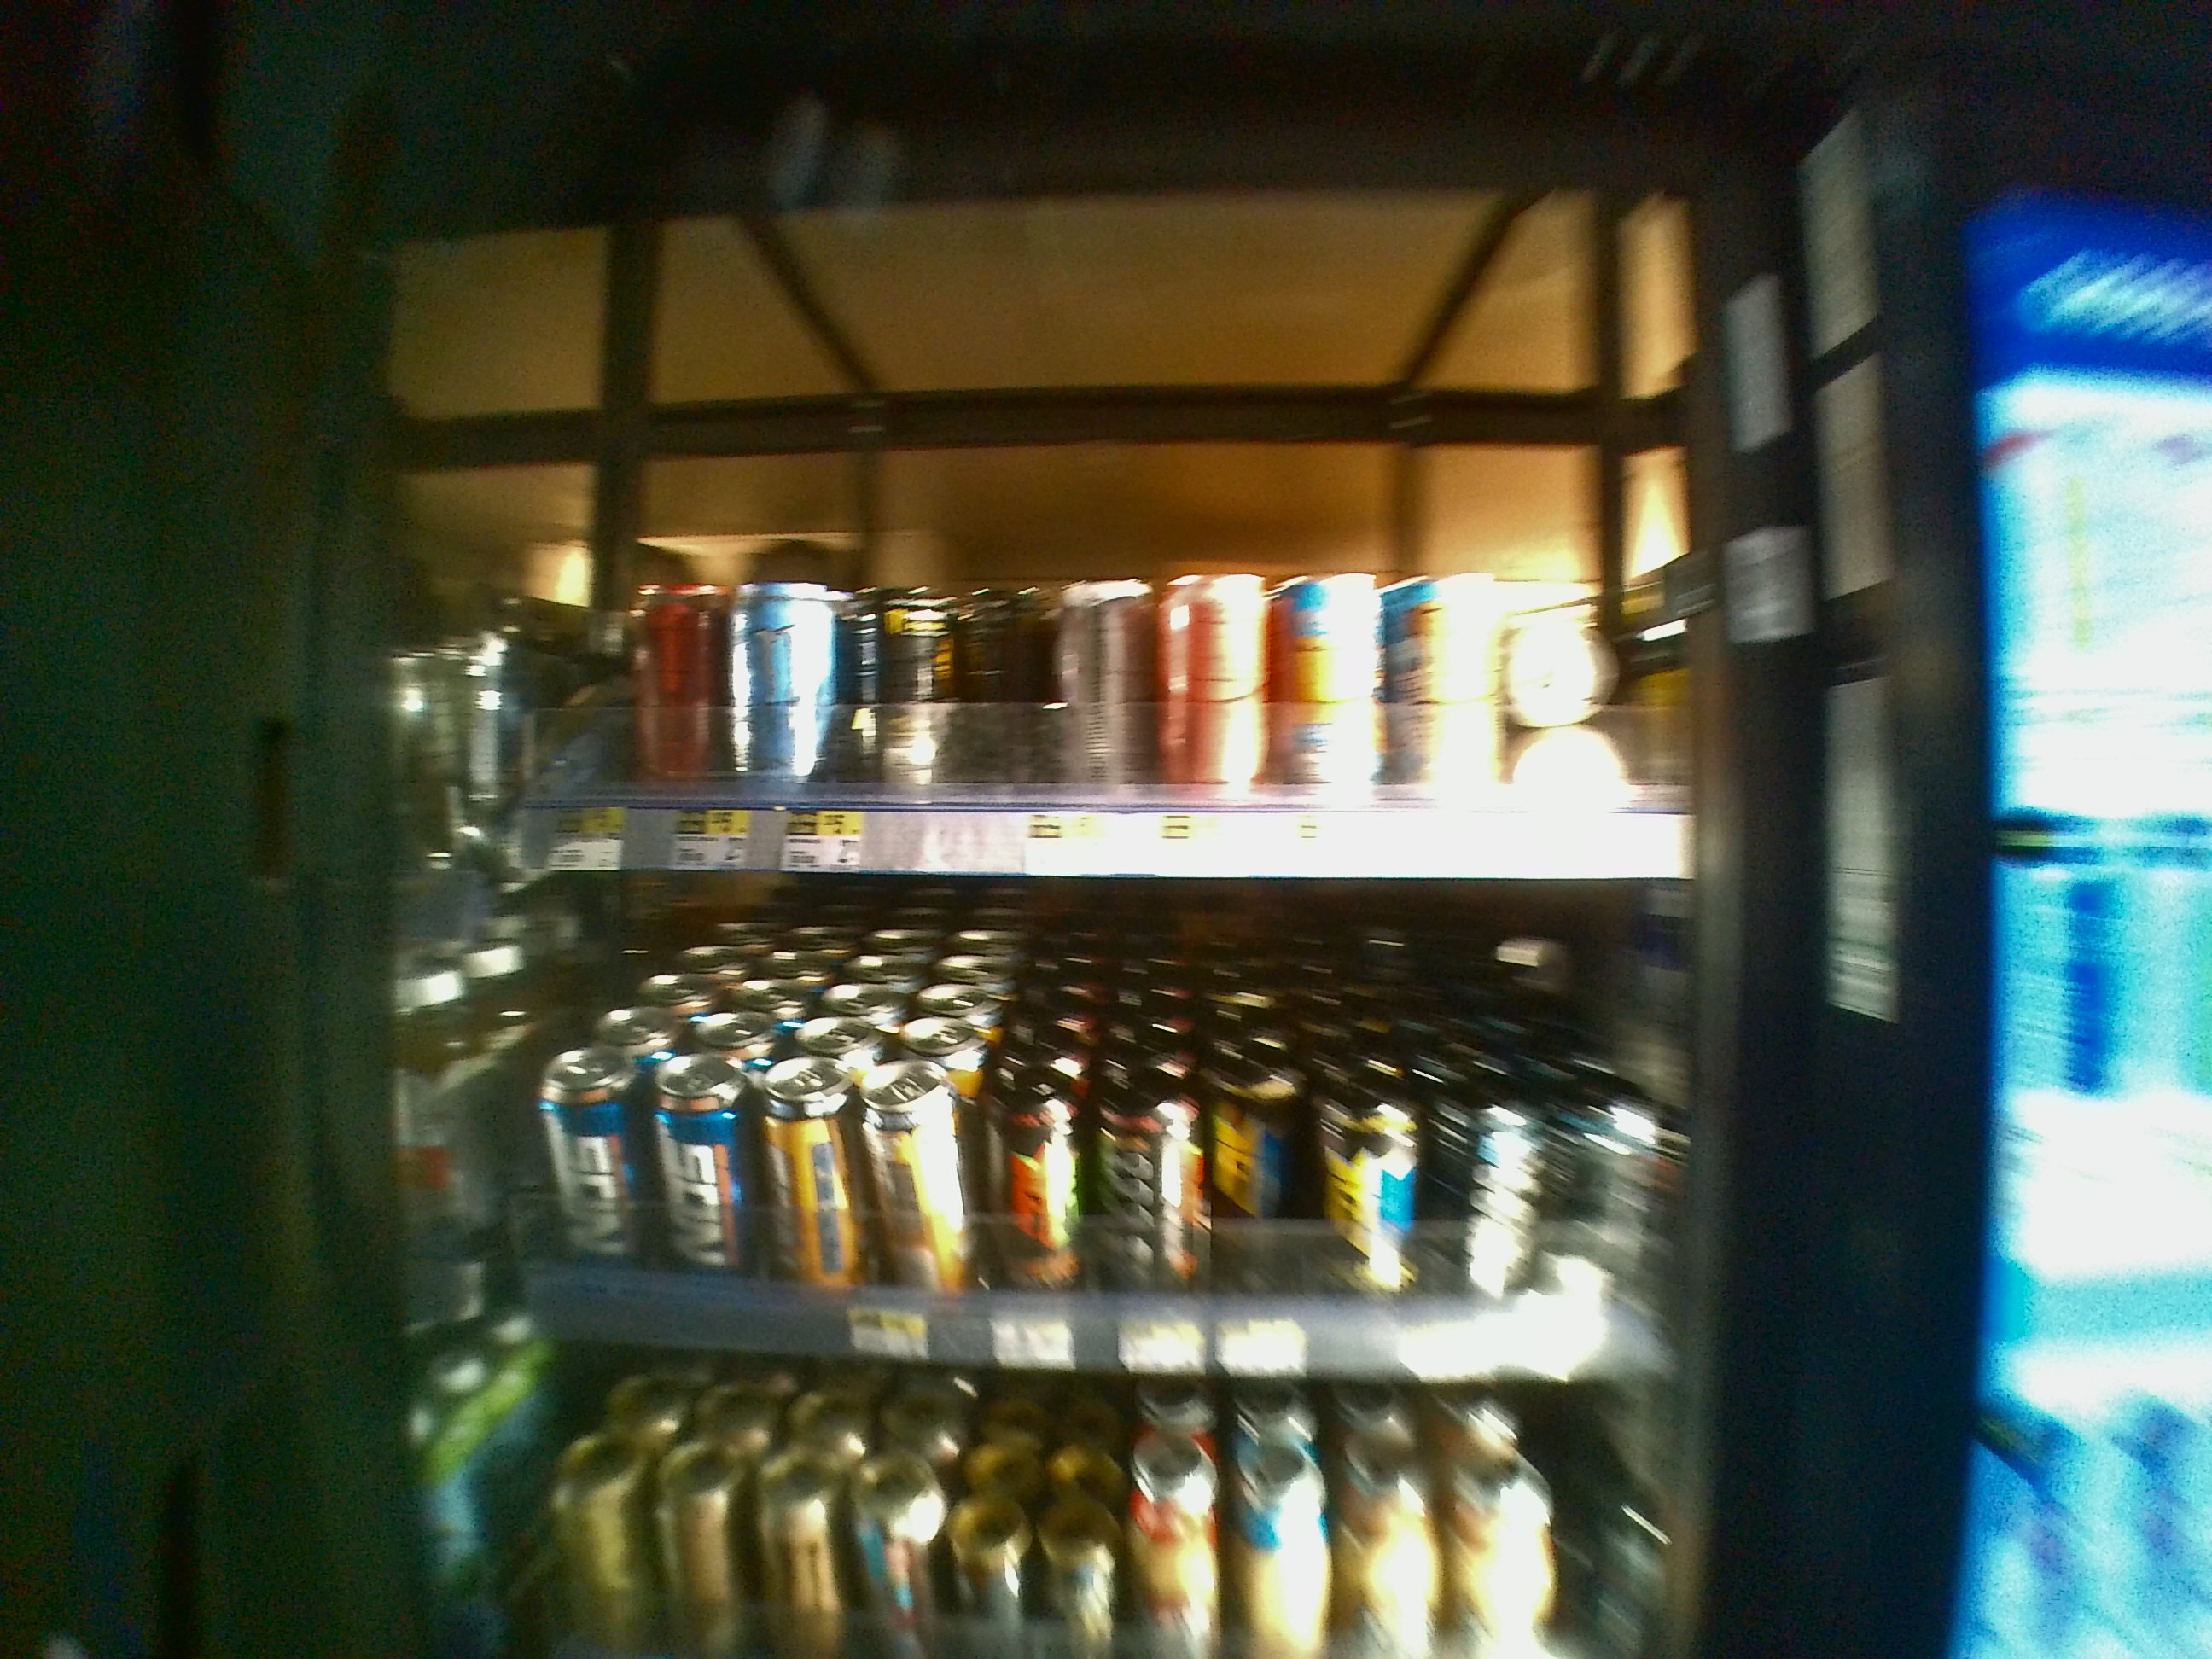shelf: (392, 240, 1714, 878), (390, 871, 1712, 1371)
